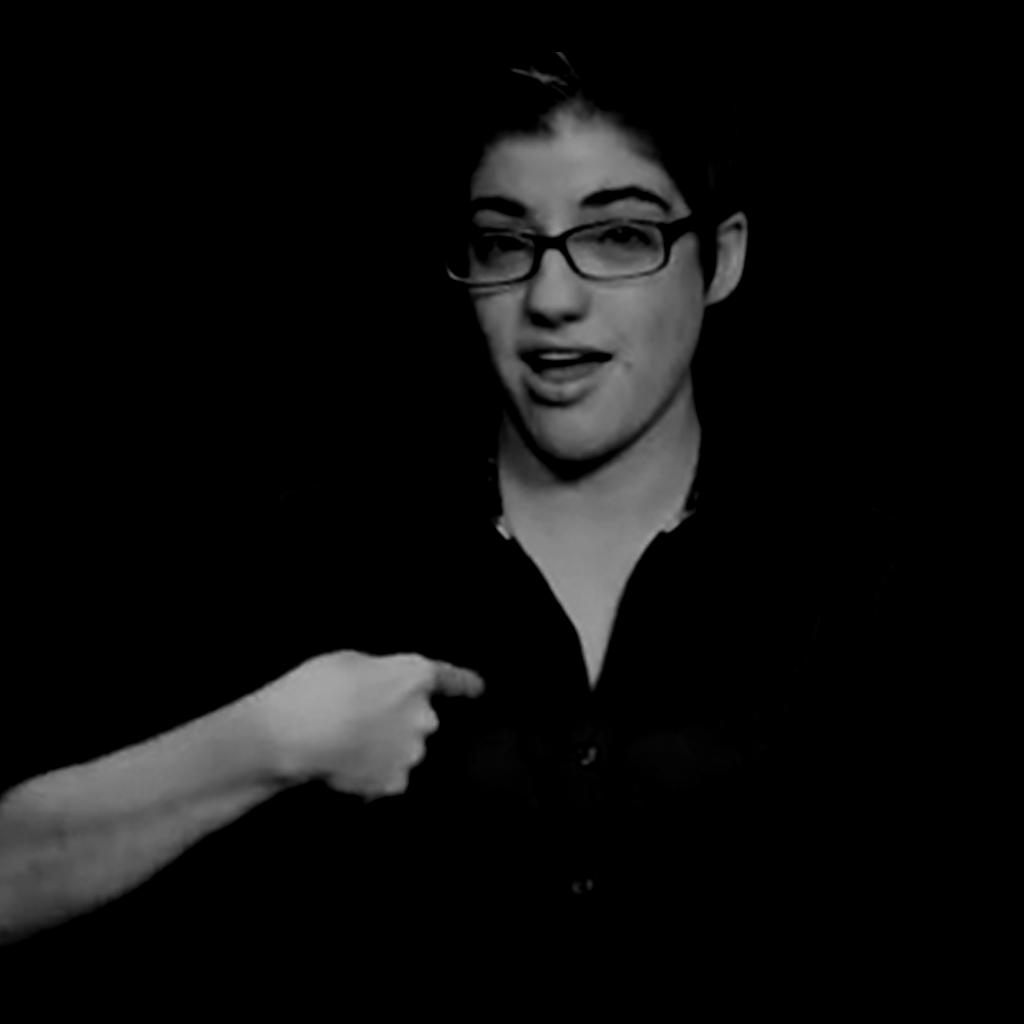I: (301, 650, 486, 802)
